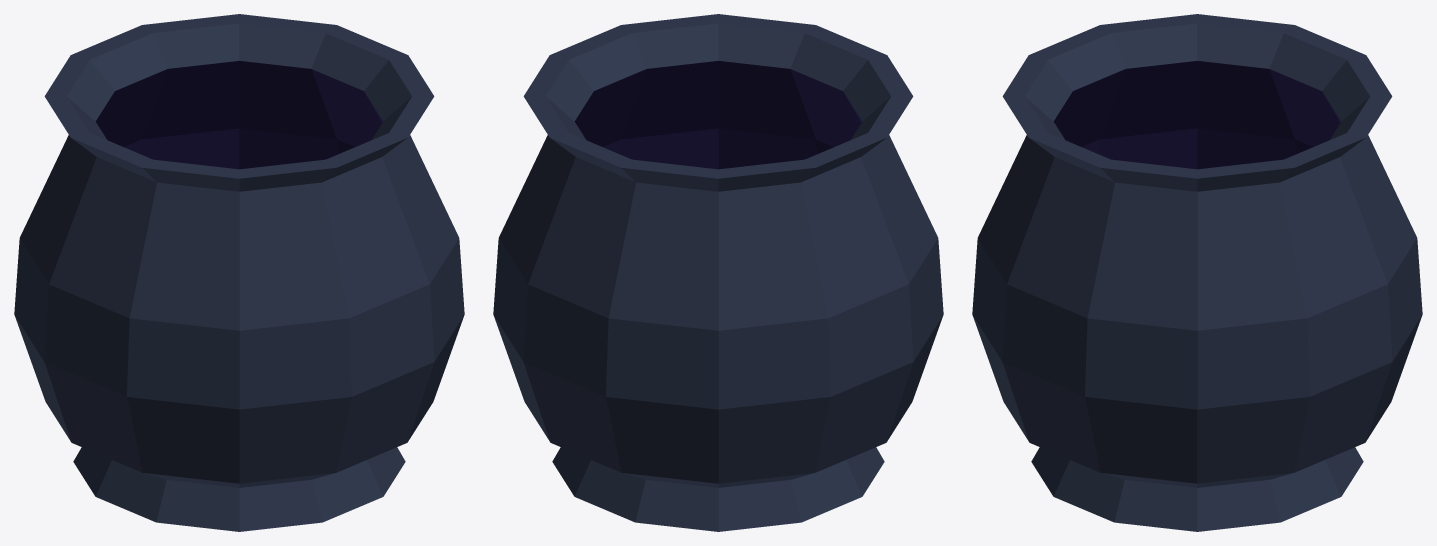
The model's file is PANELA.fbx.
3 renders of one model, left to right at view 1: azimuth 30°, elevation 25°; view 2: azimuth 150°, elevation 25°; view 3: azimuth 270°, elevation 25°, orthographic.
Visible parts, largest first — view 1: Cylinder; view 2: Cylinder; view 3: Cylinder.
Boxes of the visible parts, left/top/right/bottom form: Cylinder: left=14, top=14, right=464, bottom=531; Cylinder: left=493, top=14, right=943, bottom=531; Cylinder: left=972, top=14, right=1422, bottom=531.
Size of the model in its own units: 240 by 215 by 240.
